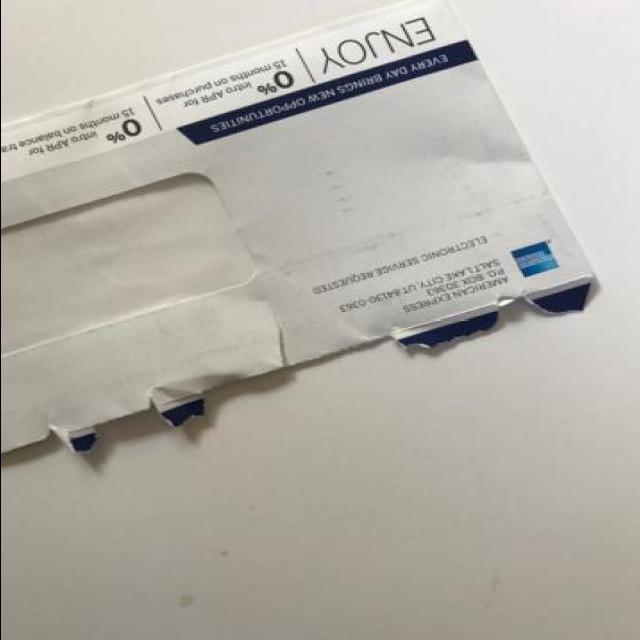kertas: (0, 0, 597, 455)
